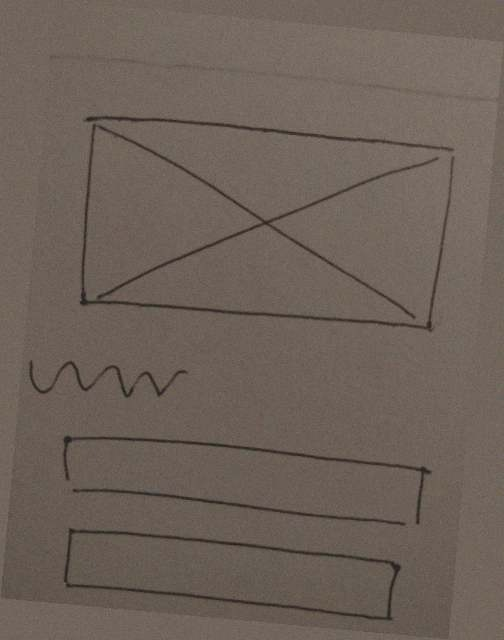image: (55, 96, 475, 361)
text: (21, 349, 193, 414)
text_input: (49, 420, 437, 538), (52, 517, 410, 630)
